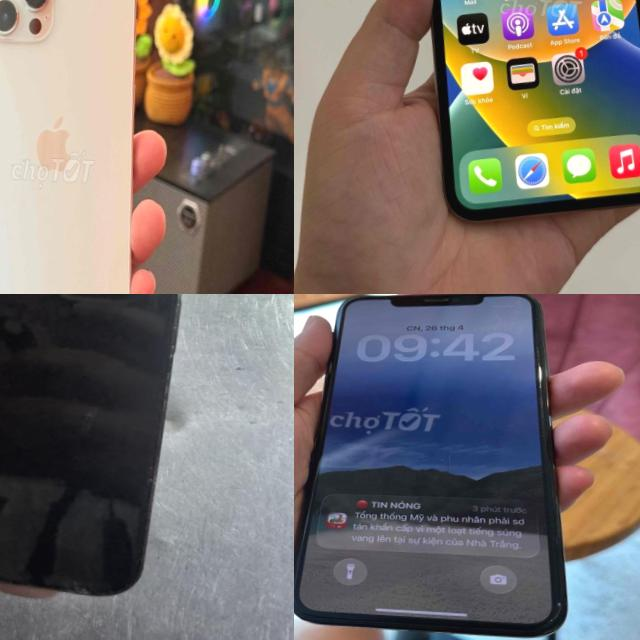gen_11: (300, 294, 579, 640), (0, 294, 206, 605)
gen_12_13: (0, 0, 161, 294)
gen_x_xs: (391, 0, 640, 234)
